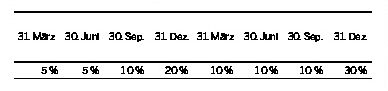table: (0, 0, 388, 91)
